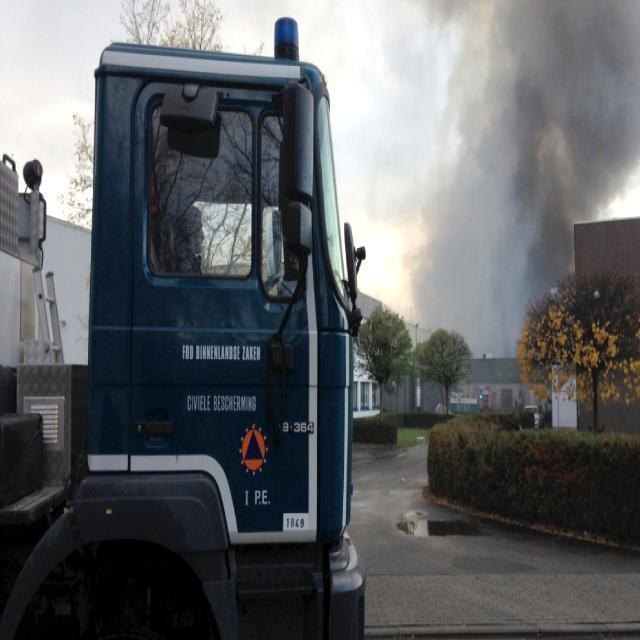Smoke: (426, 0, 640, 332)
